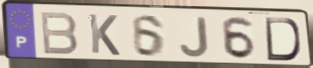6: (130, 14, 168, 58), (220, 16, 257, 61)
B: (38, 11, 80, 57)
D: (263, 16, 303, 63)
J: (178, 16, 211, 59)
K: (87, 12, 123, 58)
